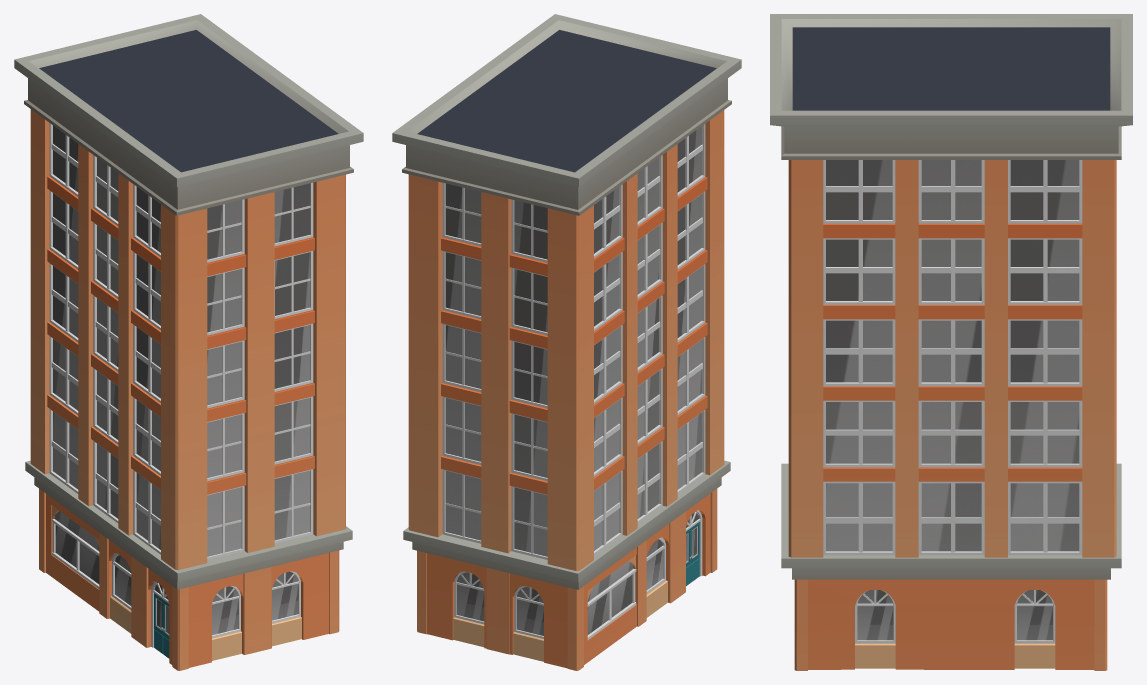
Rendered from Building_27_J.glb.
3 views of the same model, side by side, from view 1: azimuth 30°, elevation 25°; view 2: azimuth 150°, elevation 25°; view 3: azimuth 270°, elevation 25° (orthographic). The views are drawn at different scales.
Parts seen in each view (by area): view 1: Building_27_J; view 2: Building_27_J; view 3: Building_27_J.
Boxes of the visible parts, box(x1,y1,x2,y2) form: Building_27_J: box(14, 14, 363, 670); Building_27_J: box(392, 14, 741, 670); Building_27_J: box(770, 14, 1132, 670).
Size of the model in its own units: 7.65 by 19.74 by 11.55.
3 materials, 3 textured.
